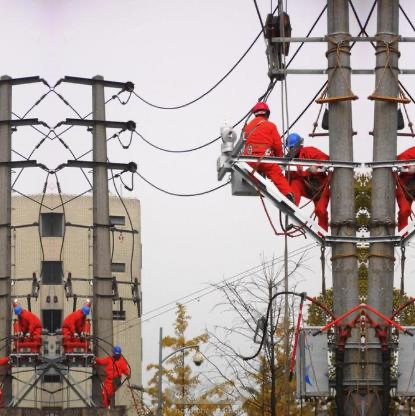Safety Helmet: (283, 132, 306, 162), (251, 98, 271, 125), (111, 343, 125, 362)
